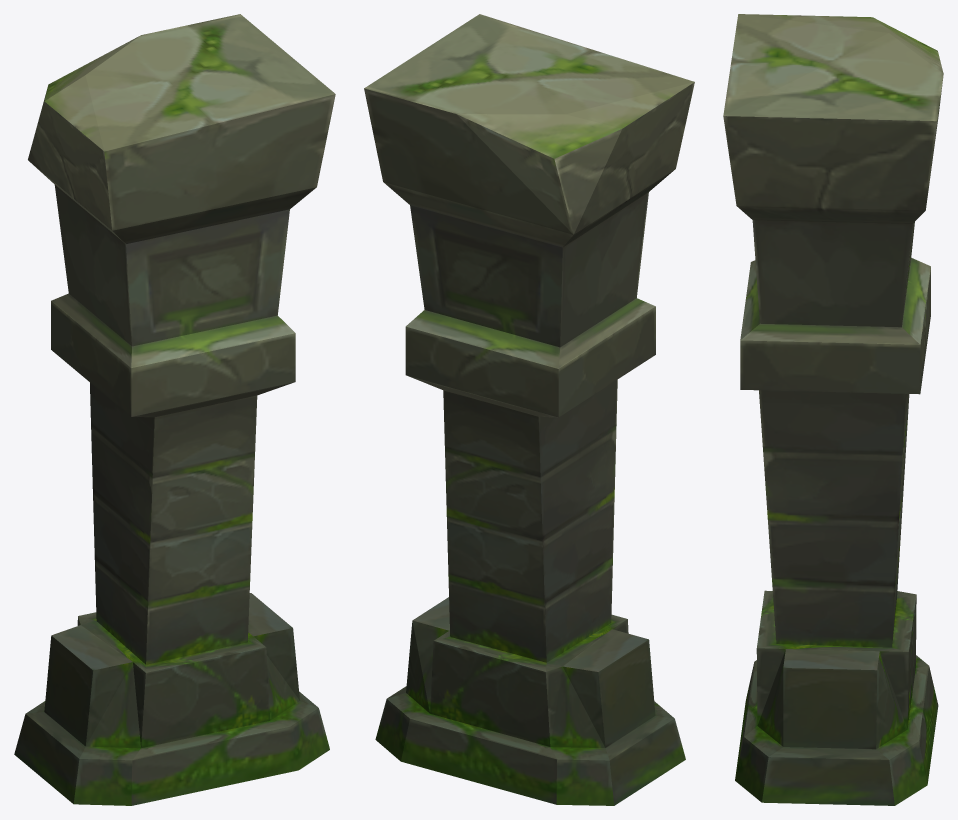
File: fb_lyhg_zj_01_k.FBX
3 renders of one model, left to right at view 1: azimuth 30°, elevation 25°; view 2: azimuth 150°, elevation 25°; view 3: azimuth 270°, elevation 25°, orthographic.
Parts seen in each view (by area): view 1: Object007; view 2: Object007; view 3: Object007.
Part boxes in pixels (x1,y1,x2,y2): Object007: (14, 14, 335, 805); Object007: (364, 14, 694, 805); Object007: (723, 14, 943, 805).
Bounding box in the file's own units: 495 × 1250 × 367.
